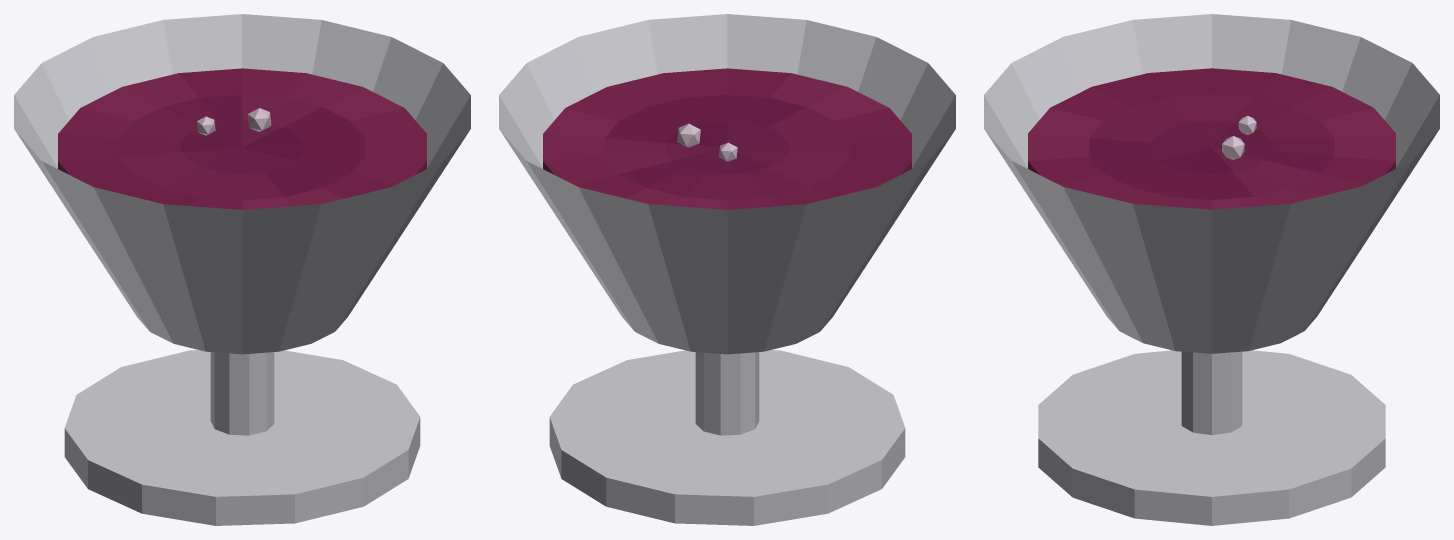
File: Fruit_Wine.glb
3 renders of one model, left to right at view 1: azimuth 30°, elevation 25°; view 2: azimuth 150°, elevation 25°; view 3: azimuth 270°, elevation 25°, orthographic.
Parts seen in each view (by area): view 1: _I_FruitWine.002; view 2: _I_FruitWine.002; view 3: _I_FruitWine.002.
Part boxes in pixels (bbox=[...]): _I_FruitWine.002: bbox=[14, 14, 470, 525]; _I_FruitWine.002: bbox=[499, 14, 955, 525]; _I_FruitWine.002: bbox=[984, 14, 1439, 525].
Bounding box in the file's own units: 0.0257 × 0.0207 × 0.0253.
